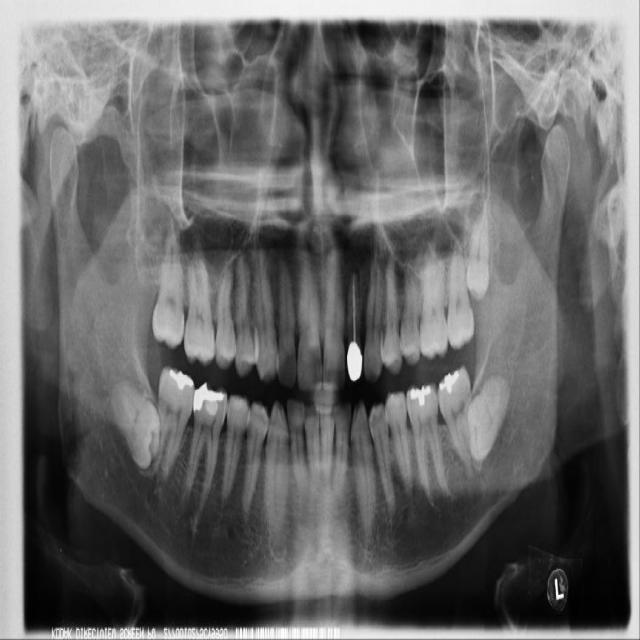Filling: (192, 384, 224, 415), (346, 341, 364, 383), (165, 368, 193, 393), (409, 385, 432, 406), (438, 371, 459, 394)
Root Canal Treatment: (351, 274, 357, 338)
impacted tooth: (96, 367, 158, 469), (468, 367, 508, 460), (466, 199, 491, 300)
